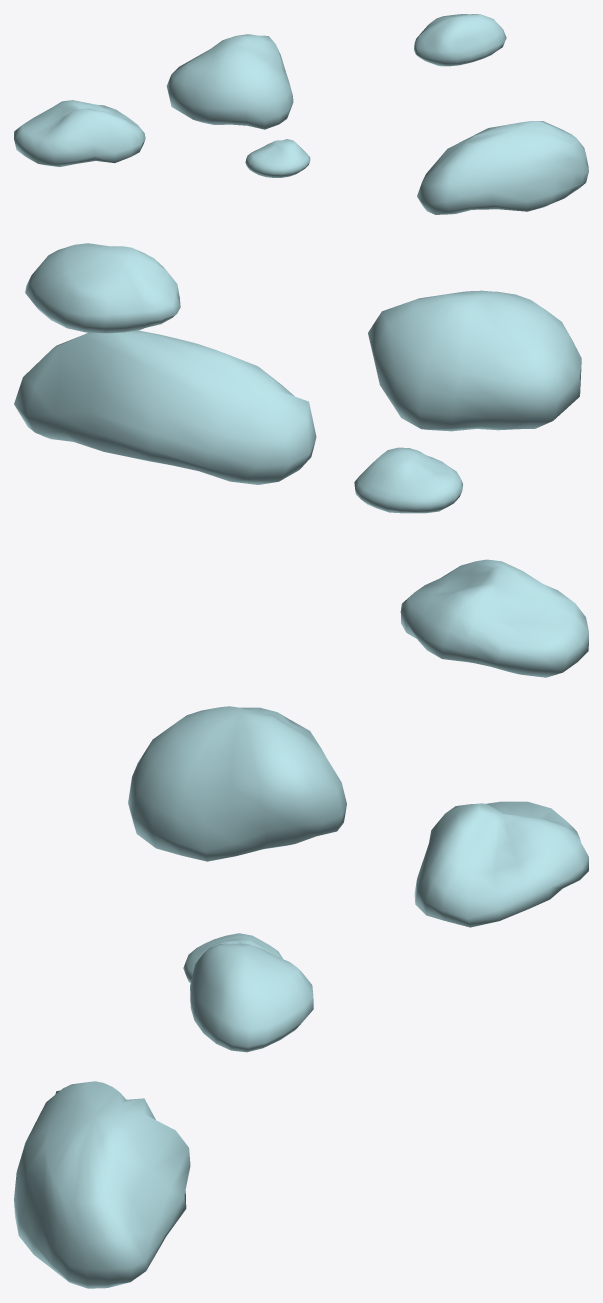
File: oblako.fbx
3 views of the same model, one above another, from view 1: azimuth 30°, elevation 25°; view 2: azimuth 150°, elevation 25°; view 3: azimuth 270°, elevation 25° (orthographic). The views are drawn at different scales.
Parts seen in each view (by area): view 1: Sphere.004, Sphere, Sphere.001, Sphere.003, Sphere.002; view 2: Sphere.004, Sphere, Sphere.001, Sphere.003, Sphere.002; view 3: Sphere.004, Sphere, Sphere.001, Sphere.003, Sphere.002.
Part boxes in pixels (left/top/right/bottom): Sphere.004: left=417, top=121, right=588, bottom=214; Sphere: left=166, top=34, right=293, bottom=129; Sphere.001: left=14, top=100, right=145, bottom=166; Sphere.003: left=414, top=14, right=506, bottom=66; Sphere.002: left=245, top=139, right=310, bottom=177; Sphere.004: left=14, top=330, right=316, bottom=484; Sphere: left=368, top=290, right=581, bottom=431; Sphere.001: left=400, top=559, right=588, bottom=677; Sphere.003: left=25, top=243, right=180, bottom=333; Sphere.002: left=354, top=447, right=462, bottom=513; Sphere.004: left=14, top=1081, right=190, bottom=1288; Sphere: left=128, top=706, right=346, bottom=861; Sphere.001: left=414, top=801, right=588, bottom=927; Sphere.003: left=190, top=943, right=313, bottom=1052; Sphere.002: left=183, top=933, right=282, bottom=982.
Bounding box in the file's own units: 577 × 222 × 363.
